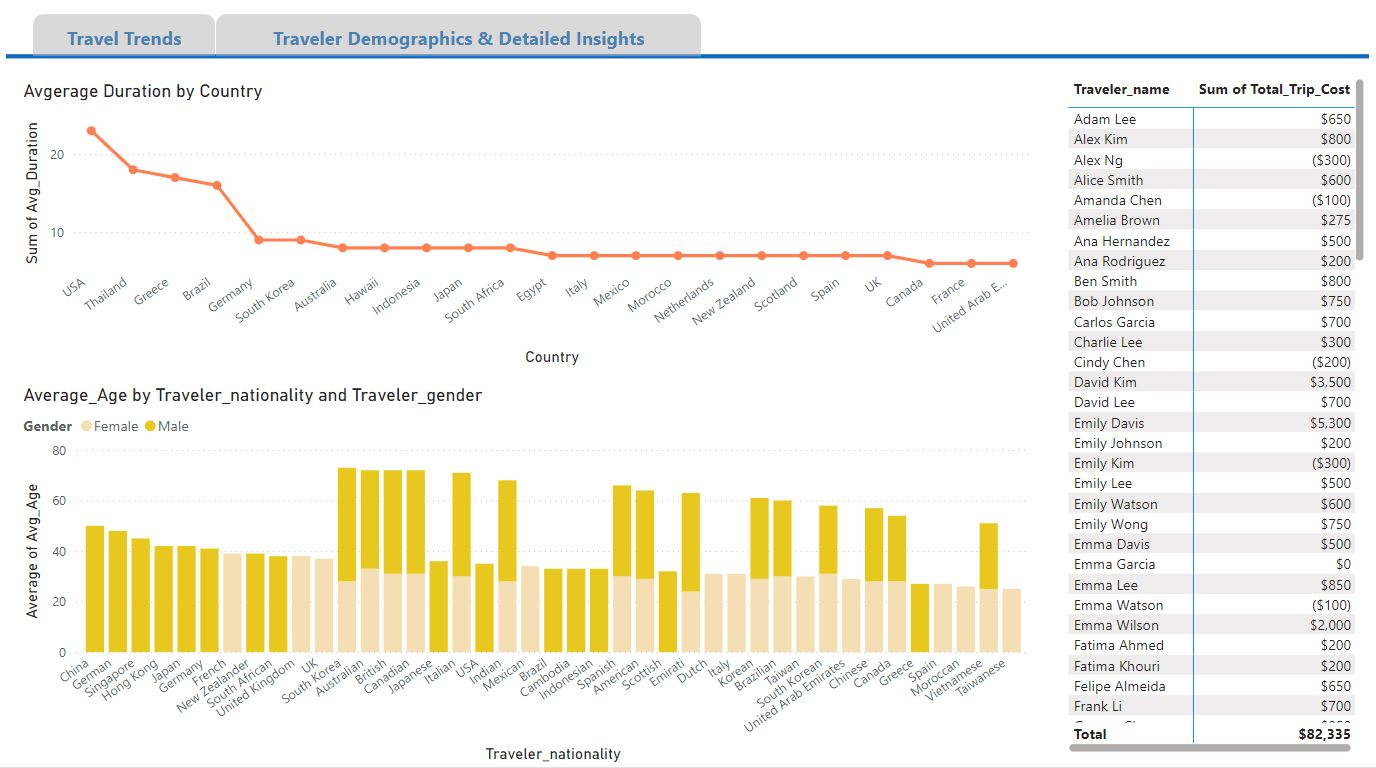

The page's visual inventory and layout, read from the dashboard file:
{"tool":"powerbi","page":{"name":"Traveler Demographics & Detailed Insights","canvas":[1280,720],"ordinal":1},"visuals":[{"type":"shape","box":[0,31.2,1280,43.8],"z":0},{"type":"actionButton","box":[25.6,13.3,171.1,40],"z":1000},{"type":"actionButton","box":[196.7,13.3,455.6,40],"z":2000},{"type":"lineChart","title":"Avgerage Duration by Country","fields":{"Y":["Query5.Avg_Duration"],"Category":["Query5.Country"]},"box":[11.2,75,955,272.5],"z":3000},{"type":"columnChart","title":"Average_Age by Traveler_nationality and Traveler_gender","fields":{"Category":["Query4.Traveler_nationality"],"Y":["Query4.Avg_Age"],"Series":["Query4.Traveler_gender"]},"box":[11.2,360,955,360],"z":4000},{"type":"pivotTable","fields":{"Rows":["Query6.Traveler_name"],"Values":["Query6.Total_Trip_Cost"]},"box":[992.5,68.8,287.5,642.5],"z":5000}]}

Visuals, with their boxes on the page's 1280x720 design canvas (x1, y1, x2, y2). These are canvas units, not pixel positions in the 1376x768 screenshot, which may show the page scaled, cropped or inside an application window:
shape: 0, 31, 1280, 75
actionButton: 26, 13, 197, 53
actionButton: 197, 13, 652, 53
"Avgerage Duration by Country" lineChart: 11, 75, 966, 348
"Average_Age by Traveler_nationality and Traveler_gender" columnChart: 11, 360, 966, 720
pivotTable - Query6.Traveler_name x Query6.Total_Trip_Cost: 992, 69, 1280, 711
